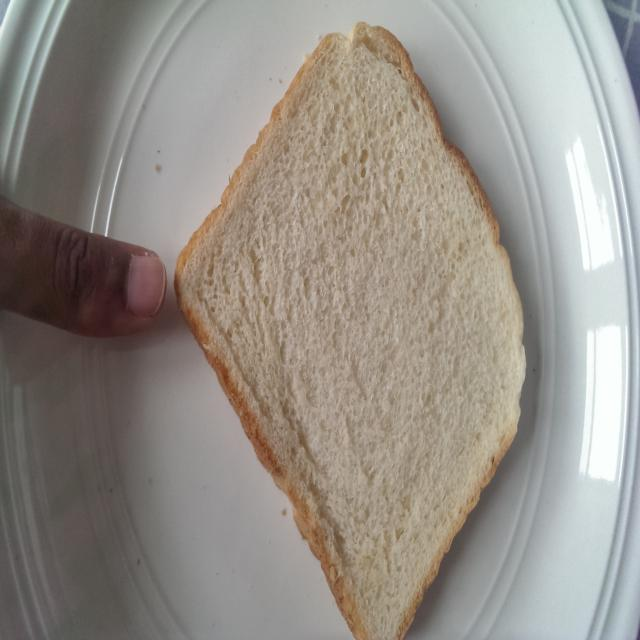Bread: (170, 14, 538, 638)
Finger: (38, 205, 174, 358)
